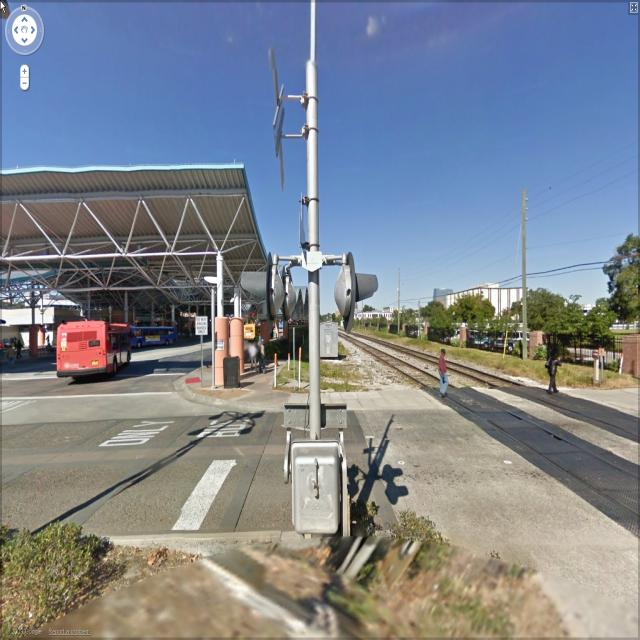b_2: (436, 277, 538, 319), (350, 302, 420, 326)
